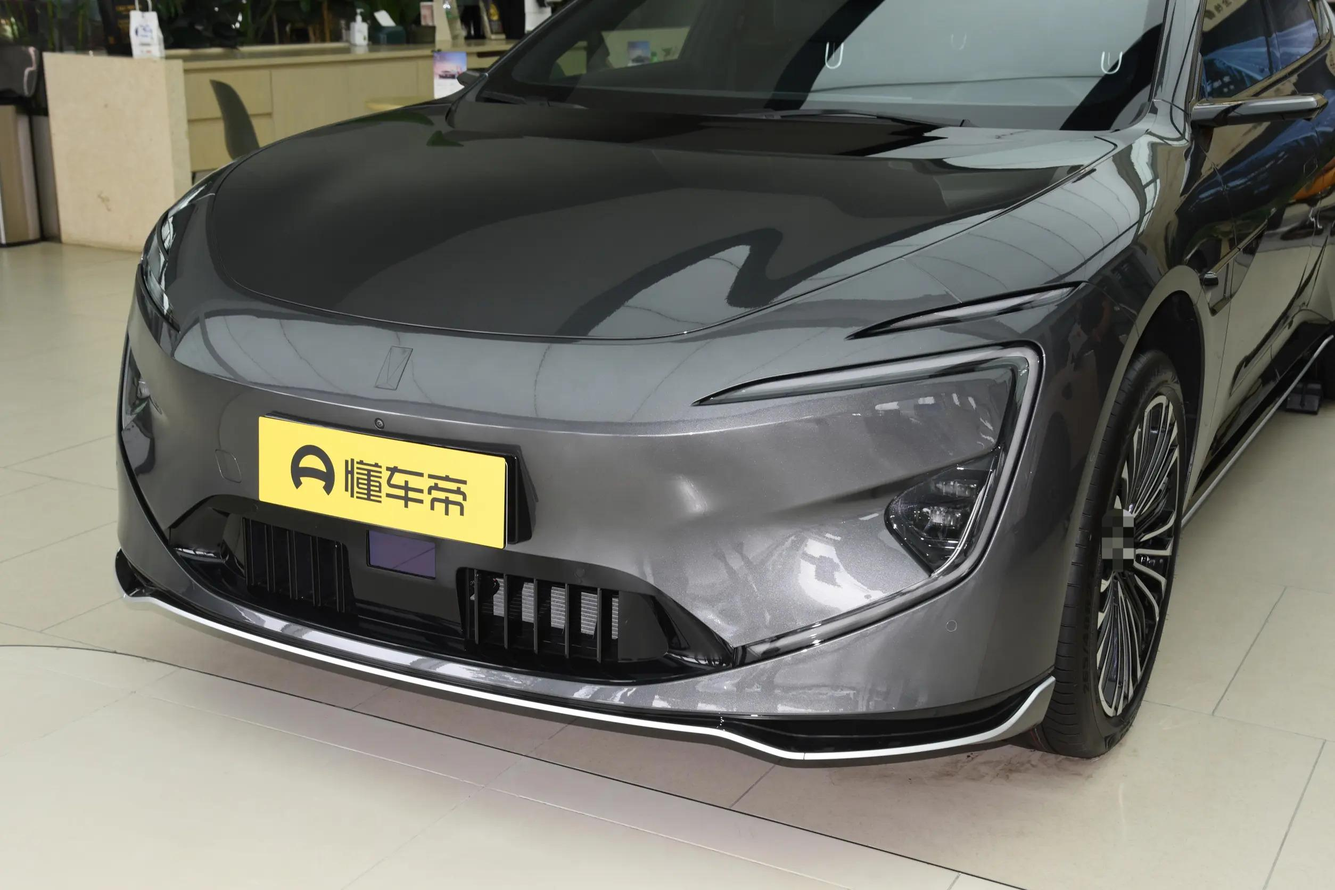AVATR: (375, 345, 413, 390)
